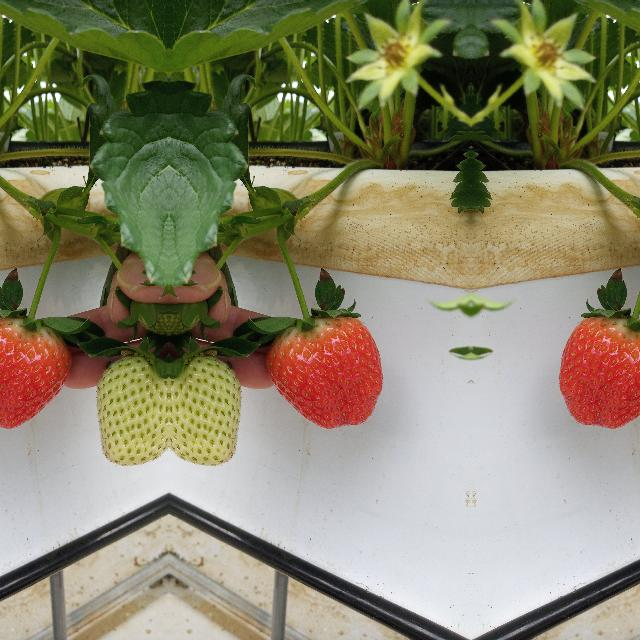Health_100: (265, 314, 383, 430), (558, 314, 640, 429), (0, 314, 71, 429)
Health_25: (172, 332, 235, 476), (100, 332, 163, 476)
